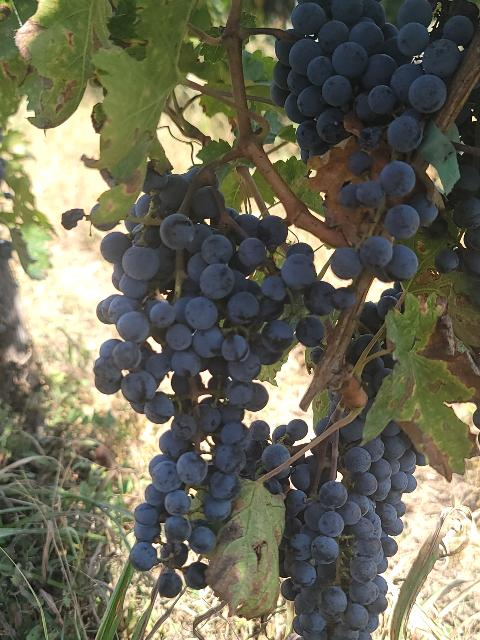grapes: (94, 165, 355, 598), (271, 0, 470, 278), (281, 421, 418, 640)
